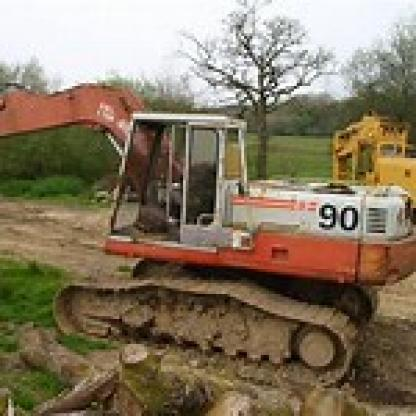excavator: (3, 39, 413, 394)
